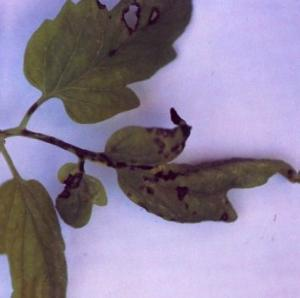Tomato leaf bacterial spot: (96, 107, 300, 223), (18, 0, 200, 130)
